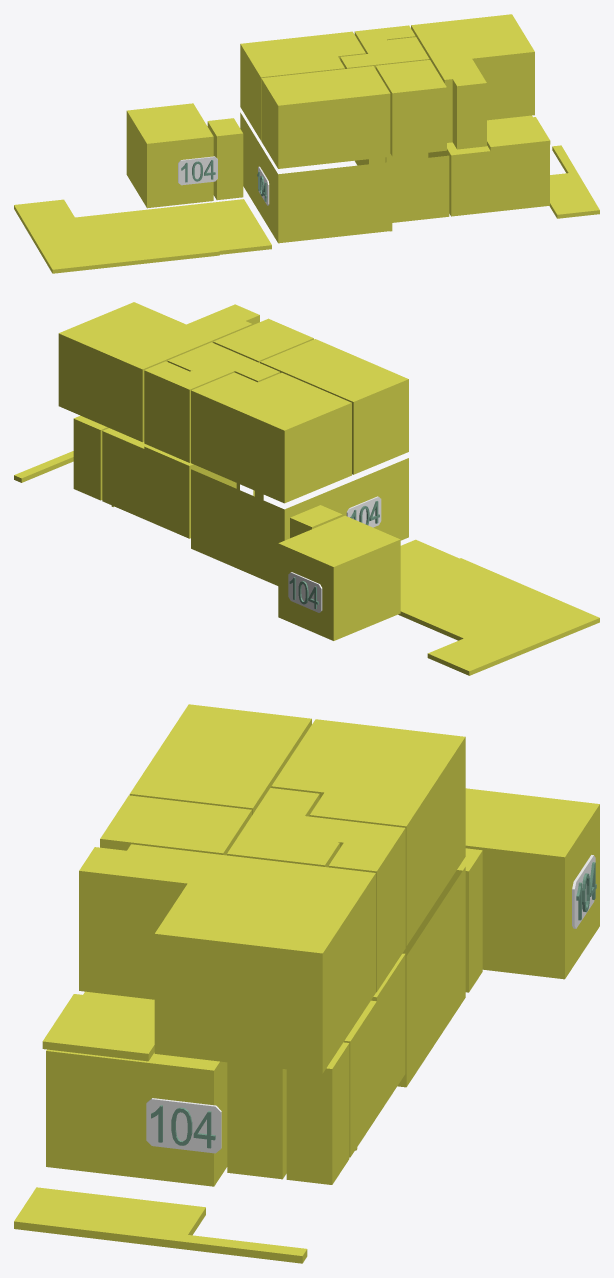
The picture shows the model from 3 angles, top to bottom: view 1: azimuth 30°, elevation 25°; view 2: azimuth 150°, elevation 25°; view 3: azimuth 270°, elevation 25°; orthographic projection. The views are drawn at different scales.
Parts seen in each view (by area): view 1: g_1, g_12, g_7, g_11, g_5, g_0, g_9, g_6, g_4, g_13, g_8, g_14 (+3 smaller); view 2: g_6, g_12, g_11, g_1, g_5, g_7, g_2, g_10, g_9, g_3, g_8, g_4 (+3 smaller); view 3: g_11, g_6, g_5, g_0, g_2, g_7, g_13, g_1, g_3, g_9, g_10, g_8 (+3 smaller).
Part boxes in pixels (x1,y1,x2,y2): g_1: [240, 112, 449, 243]; g_12: [14, 199, 271, 273]; g_7: [261, 66, 390, 168]; g_11: [411, 14, 534, 149]; g_5: [126, 103, 213, 208]; g_0: [428, 115, 549, 216]; g_9: [375, 60, 446, 156]; g_6: [240, 31, 365, 140]; g_4: [207, 118, 243, 200]; g_13: [549, 145, 599, 218]; g_8: [340, 37, 429, 68]; g_14: [487, 117, 550, 150]; g_6: [191, 372, 351, 503]; g_12: [398, 539, 599, 675]; g_11: [58, 302, 259, 442]; g_1: [191, 458, 408, 585]; g_5: [278, 515, 400, 640]; g_7: [260, 339, 408, 474]; g_2: [102, 428, 236, 538]; g_10: [144, 361, 214, 462]; g_9: [213, 318, 313, 362]; g_3: [73, 415, 108, 500]; g_8: [167, 342, 280, 382]; g_4: [290, 505, 342, 538]; g_11: [79, 844, 375, 1073]; g_6: [271, 719, 465, 946]; g_5: [465, 788, 599, 979]; g_0: [46, 991, 227, 1186]; g_2: [227, 953, 405, 1179]; g_7: [129, 704, 311, 815]; g_13: [14, 1187, 307, 1263]; g_1: [397, 867, 465, 1087]; g_3: [286, 1042, 349, 1184]; g_9: [100, 795, 251, 855]; g_10: [328, 821, 405, 992]; g_8: [227, 788, 349, 867].
Size of the model in its own units: 20.08 by 5.35 by 10.55.
